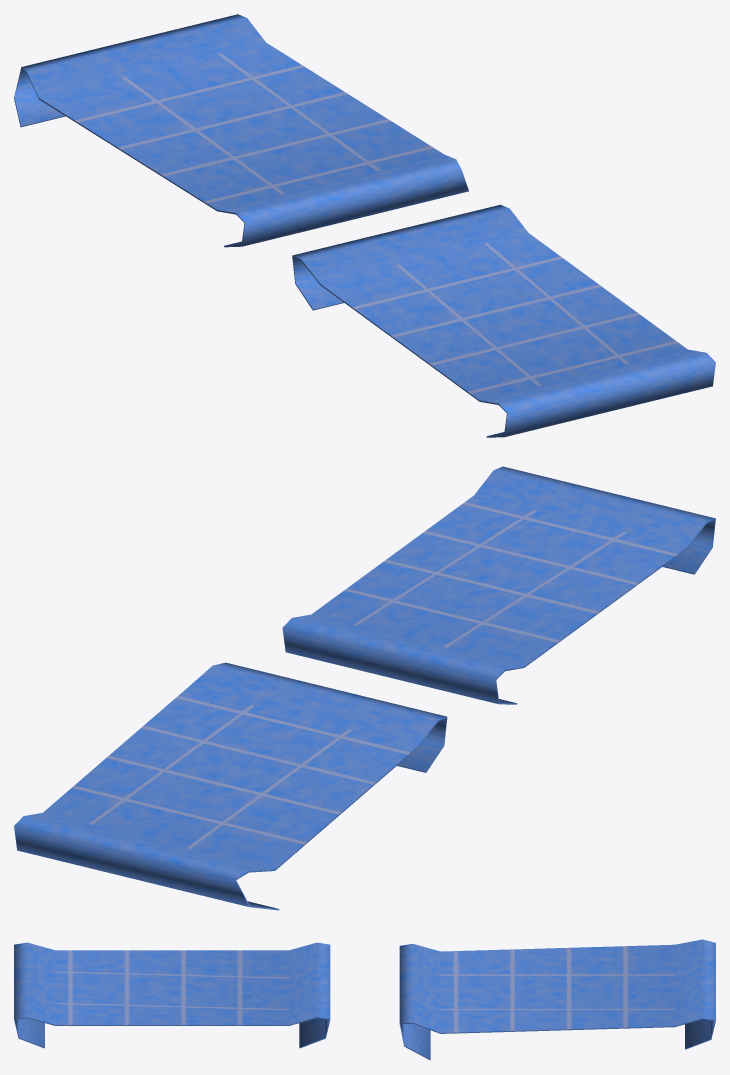
The model's file is Blueprint.fbx.
The picture shows the model from 3 angles, top to bottom: view 1: azimuth 30°, elevation 25°; view 2: azimuth 150°, elevation 25°; view 3: azimuth 270°, elevation 25°; orthographic projection. The views are drawn at different scales.
Visible parts, largest first — view 1: Blueprint_2, Blueprint_1; view 2: Blueprint_2, Blueprint_1; view 3: Blueprint_2, Blueprint_1.
Part boxes in pixels (left/top/right/bottom): Blueprint_2: left=14, top=14, right=468, bottom=247; Blueprint_1: left=292, top=204, right=715, bottom=437; Blueprint_2: left=14, top=662, right=447, bottom=910; Blueprint_1: left=282, top=466, right=715, bottom=704; Blueprint_2: left=399, top=939, right=715, bottom=1060; Blueprint_1: left=14, top=942, right=330, bottom=1048.
Bounding box in the file's own units: 0.3338 × 0.0527 × 1.03.
1 material, 1 textured.
